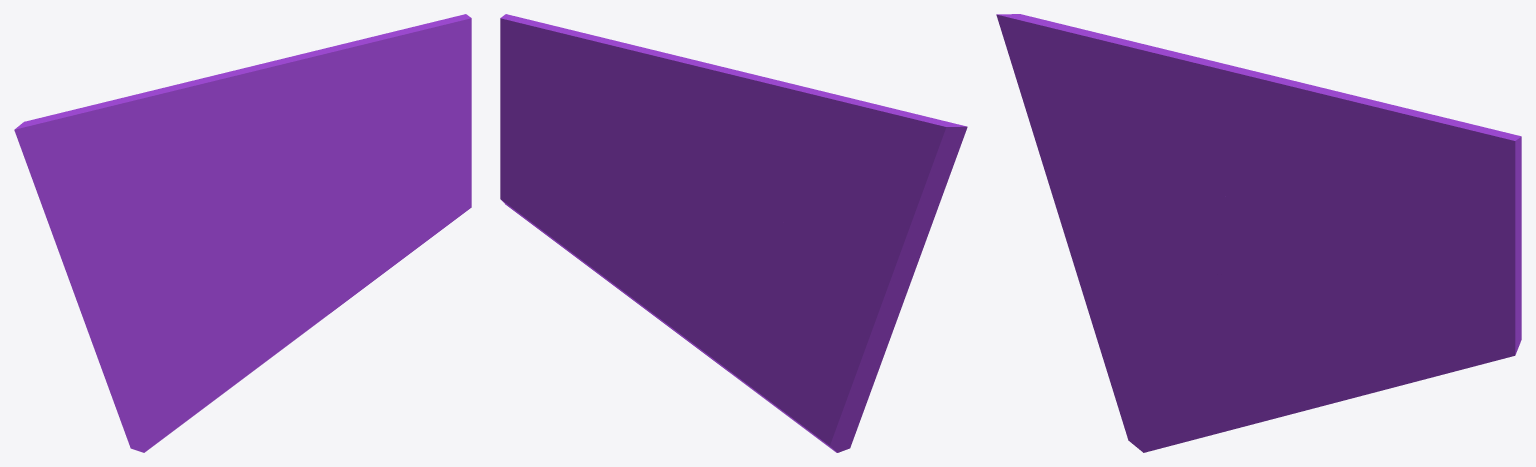
Rendered from Window_39_2_chunks.fbx.
3 views of the same model, side by side, from view 1: azimuth 30°, elevation 25°; view 2: azimuth 150°, elevation 25°; view 3: azimuth 330°, elevation 25° (orthographic). The views are drawn at different scales.
Visible parts, largest first — view 1: Window_39_2_0, Window_39_2_8, Window_39_2_5, Window_39_2_7, Window_39_2_10, Window_39_2_15, Window_39_2_3, Window_39_2_11, Window_39_2_13, Window_39_2_4, Window_39_2_1, Window_39_2_2 (+2 smaller); view 2: Window_39_2_8, Window_39_2_0, Window_39_2_5, Window_39_2_7, Window_39_2_10, Window_39_2_15, Window_39_2_11, Window_39_2_13, Window_39_2_2, Window_39_2_1, Window_39_2_3, Window_39_2_4 (+3 smaller); view 3: Window_39_2_0, Window_39_2_8, Window_39_2_5, Window_39_2_7, Window_39_2_10, Window_39_2_15, Window_39_2_3, Window_39_2_11, Window_39_2_13, Window_39_2_4, Window_39_2_1, Window_39_2_2 (+2 smaller).
Part boxes in pixels (<box>): Window_39_2_0: <box>89,245,253,452</box>; Window_39_2_8: <box>14,96,155,298</box>; Window_39_2_5: <box>168,73,321,249</box>; Window_39_2_7: <box>304,69,471,229</box>; Window_39_2_10: <box>76,211,242,333</box>; Window_39_2_15: <box>225,41,358,141</box>; Window_39_2_3: <box>244,248,380,377</box>; Window_39_2_11: <box>131,86,230,221</box>; Window_39_2_13: <box>370,14,471,104</box>; Window_39_2_4: <box>327,162,471,251</box>; Window_39_2_1: <box>249,220,331,315</box>; Window_39_2_2: <box>351,186,471,275</box>; Window_39_2_8: <box>818,97,967,296</box>; Window_39_2_0: <box>731,266,892,452</box>; Window_39_2_5: <box>652,74,811,246</box>; Window_39_2_7: <box>500,67,666,224</box>; Window_39_2_10: <box>721,221,905,343</box>; Window_39_2_15: <box>605,45,752,140</box>; Window_39_2_11: <box>731,89,845,226</box>; Window_39_2_13: <box>500,14,605,107</box>; Window_39_2_2: <box>500,167,639,280</box>; Window_39_2_1: <box>635,214,736,334</box>; Window_39_2_3: <box>600,255,739,378</box>; Window_39_2_4: <box>500,157,639,239</box>; Window_39_2_0: <box>1081,271,1267,452</box>; Window_39_2_8: <box>996,14,1156,239</box>; Window_39_2_5: <box>1171,54,1345,287</box>; Window_39_2_7: <box>1325,191,1521,303</box>; Window_39_2_10: <box>1066,185,1254,286</box>; Window_39_2_15: <box>1237,69,1394,189</box>; Window_39_2_3: <box>1257,325,1411,422</box>; Window_39_2_11: <box>1133,43,1242,239</box>; Window_39_2_13: <box>1406,109,1521,204</box>; Window_39_2_4: <box>1351,290,1521,338</box>; Window_39_2_1: <box>1262,283,1356,355</box>; Window_39_2_2: <box>1378,305,1521,382</box>.
Size of the model in its own units: 1259 by 933 by 27.2.
